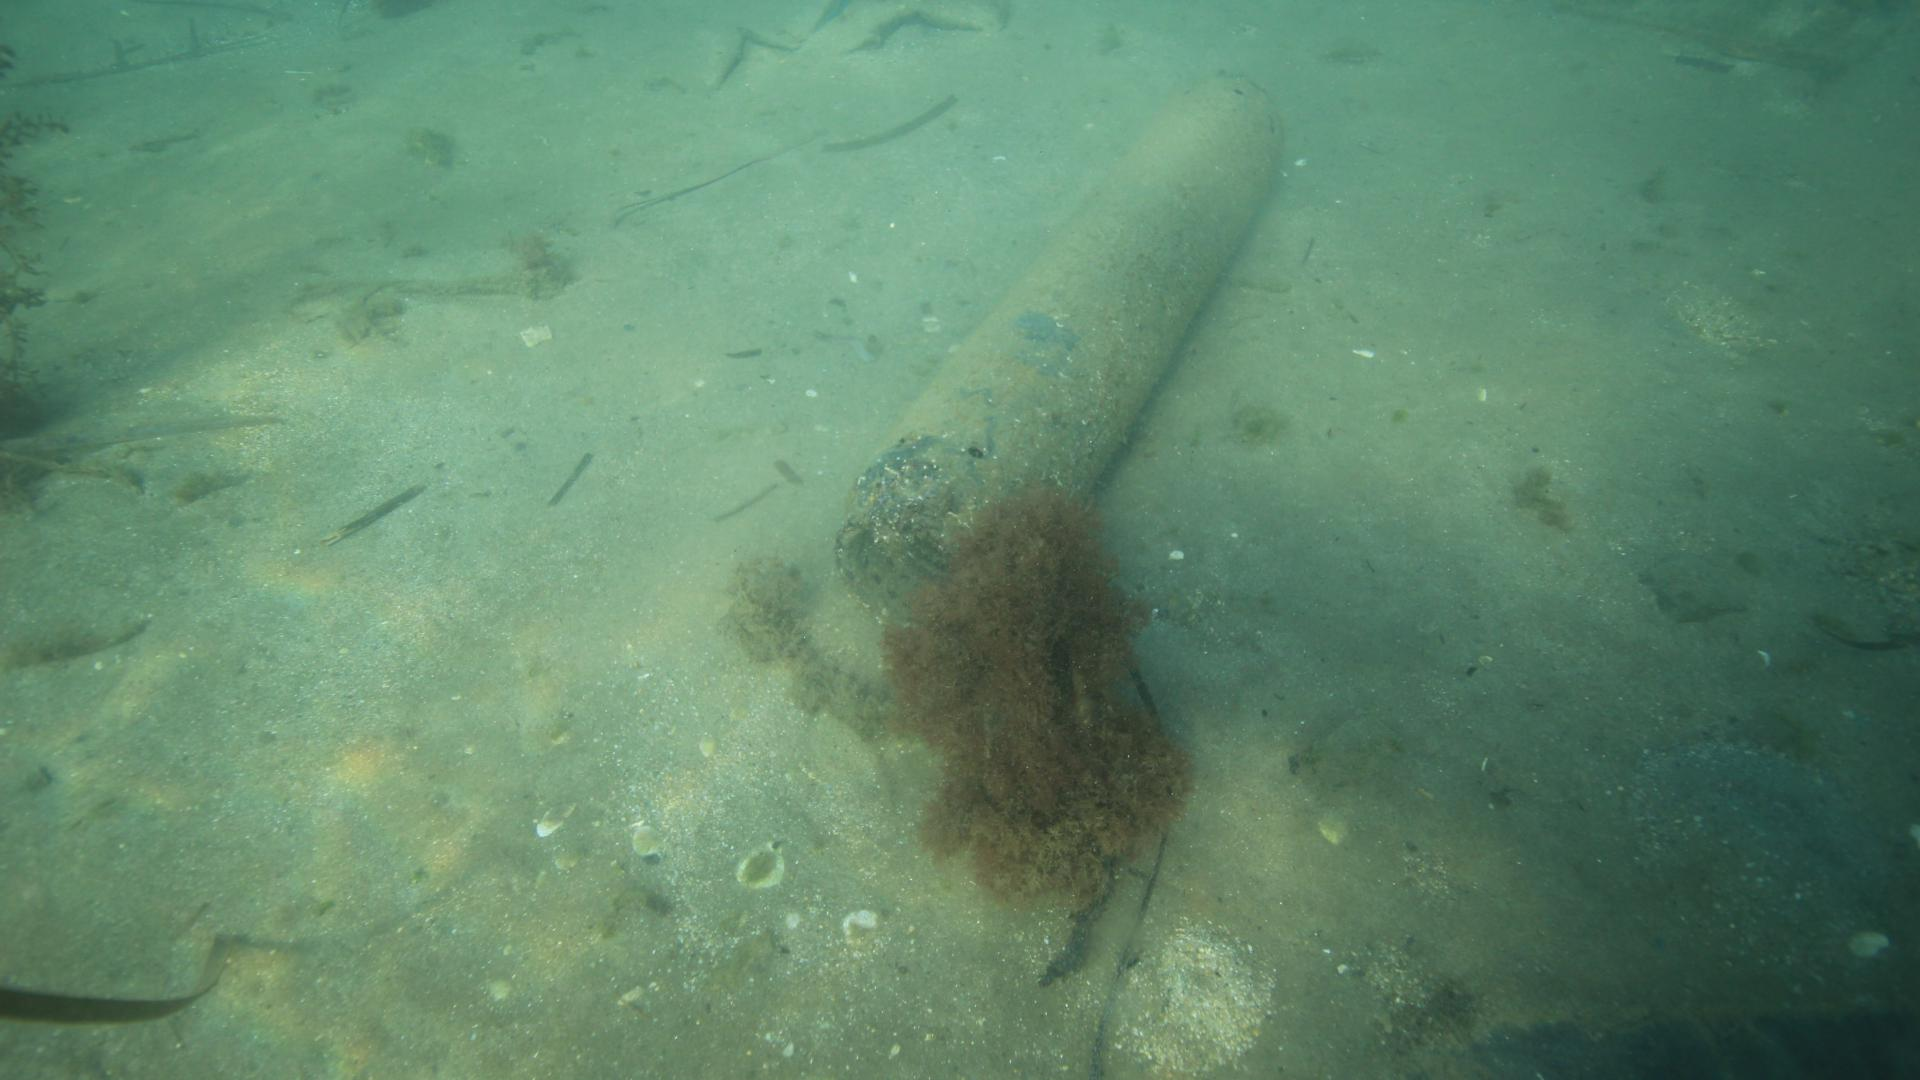eel fish trap: (829, 70, 1291, 618)
